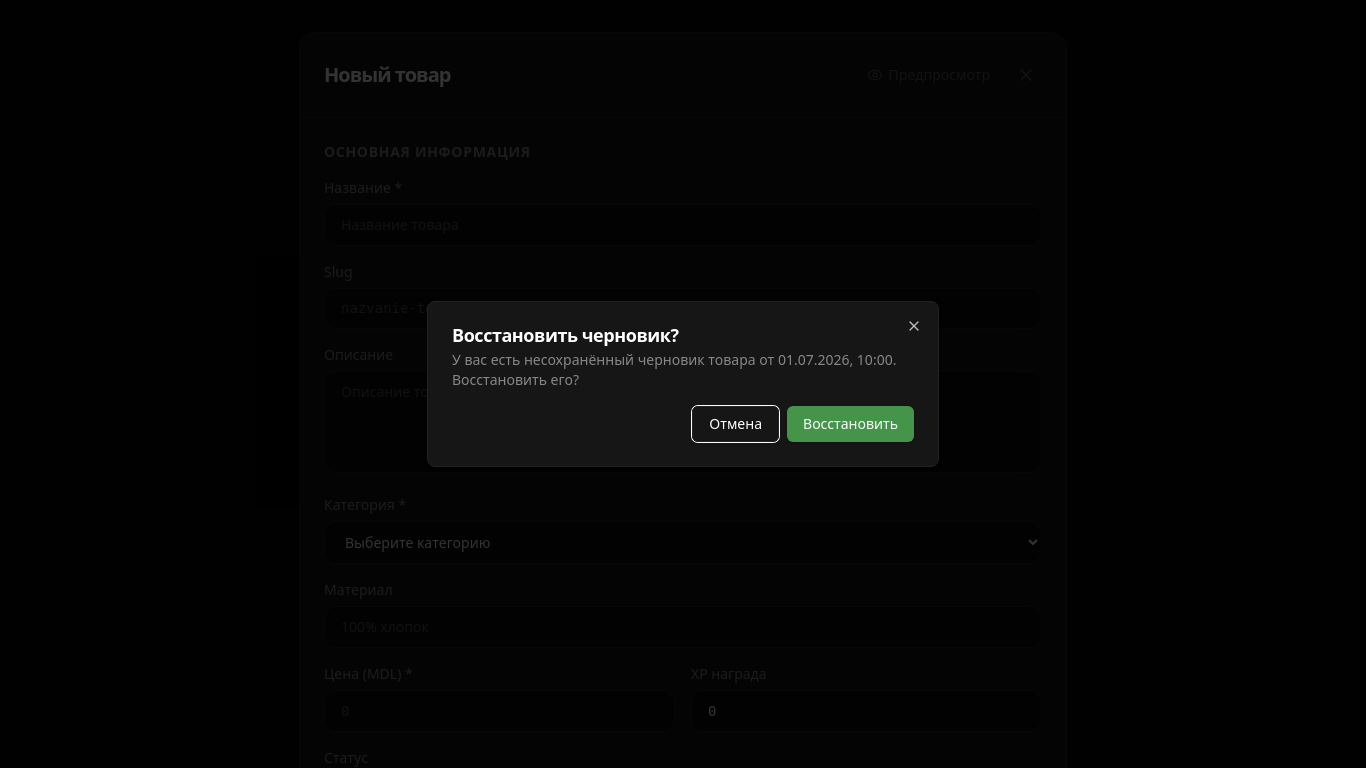
Scenario: ProductForm — brand editor (KAN-14) › hydrates a pre-KAN-14 draft that stored a single brand string (R3)
Expected: the dialog with test id "pf-restore-dialog" is shown, 427,301 -> 939,467
Step 1. Click the button with test id "pf-restore-confirm" → (850, 424), box 787,406 -> 914,442
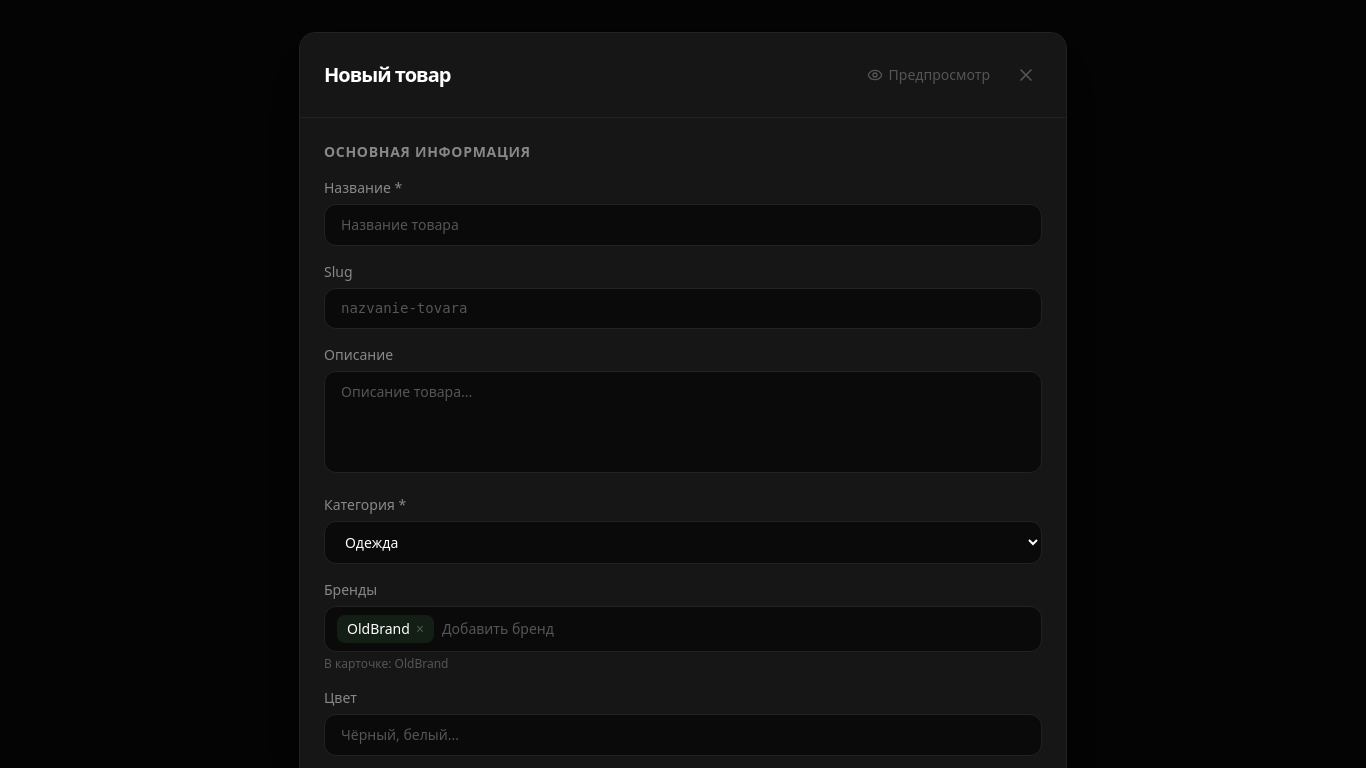
Expected: the element with test id "brand-chip-oldbrand" is shown, 337,615 -> 434,643
